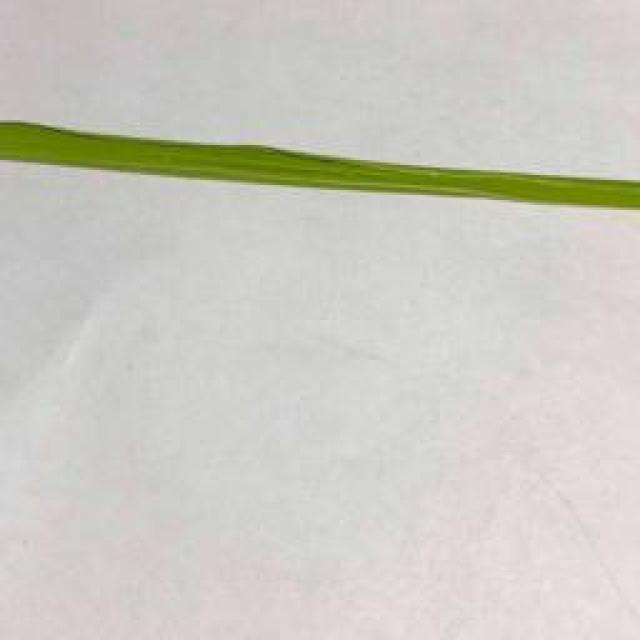Healthy-Plant: (0, 111, 640, 228)
